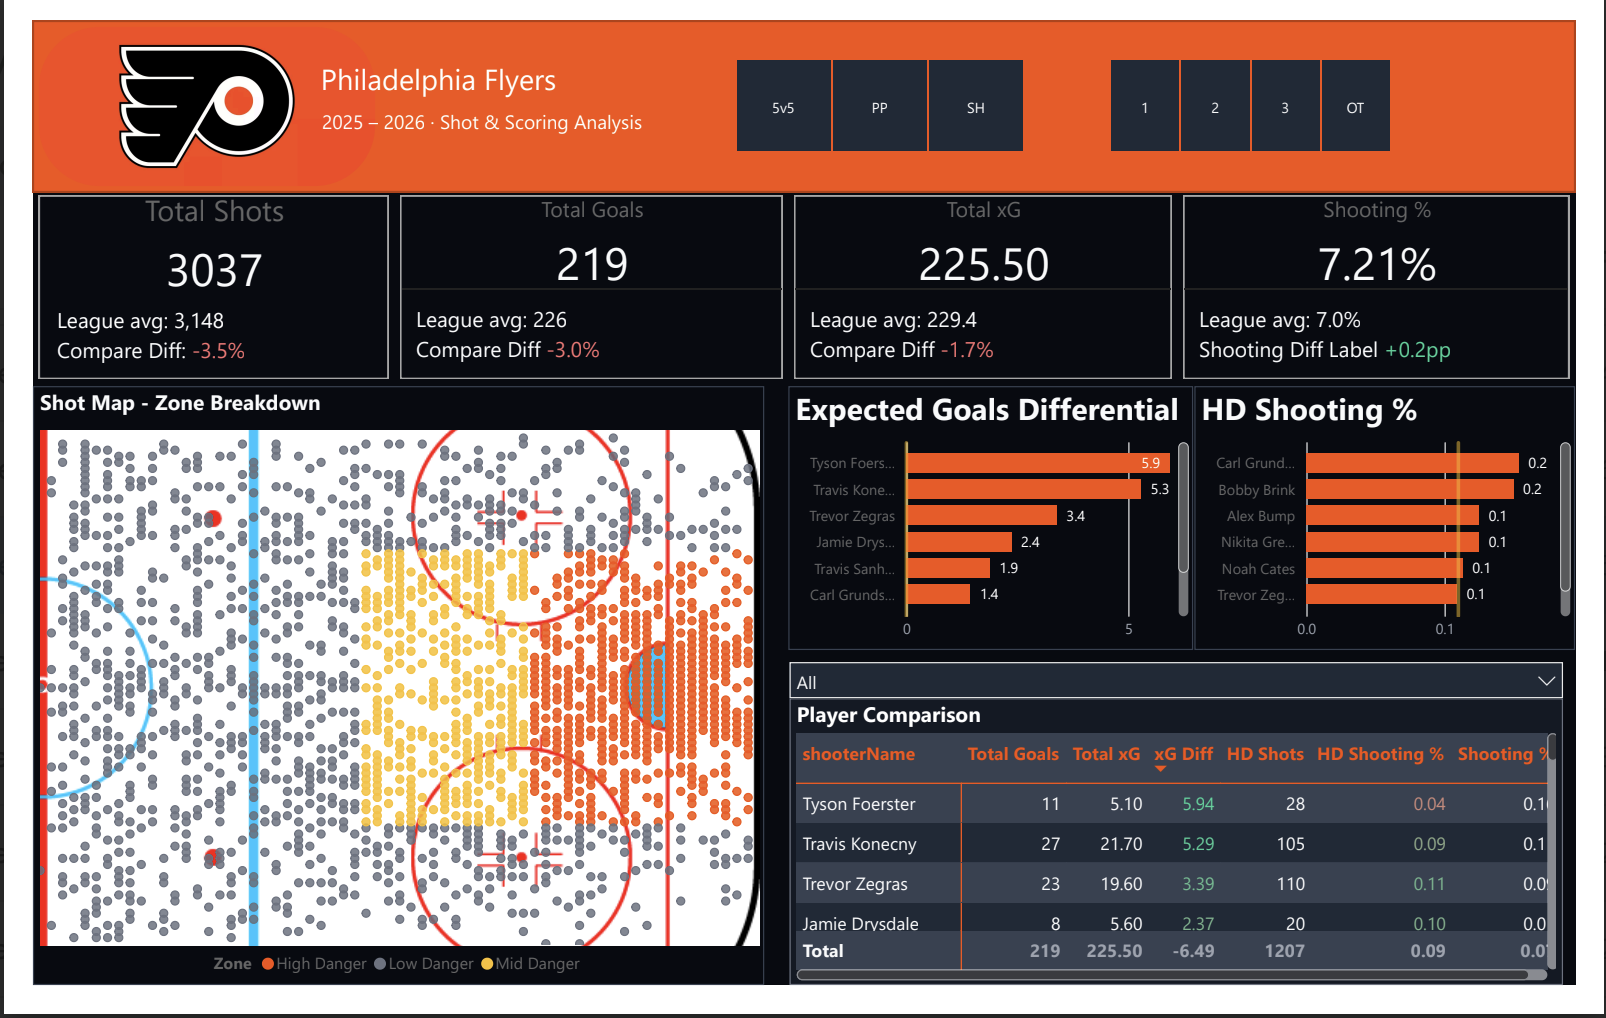

The dashboard page shown, as its layout file describes it:
{"tool":"powerbi","page":{"name":"Shooters","canvas":[1280,800],"ordinal":0},"visuals":[{"type":"shape","box":[0,0,1280,141.5],"z":0},{"type":"image","box":[0,0,289.2,141.5],"z":1000},{"type":"textbox","box":[234.6,67.9,286.6,46.9],"z":2000},{"type":"textbox","box":[234.3,25.7,225.7,45.7],"z":3000},{"type":"cardVisual","title":"TOTAL SHOTS","fields":{"Data":["Shots.Total Shots"]},"box":[0,139.5,299.5,162.9],"z":4000},{"type":"slicer","fields":{"Values":["Shots.Situation"]},"box":[558.2,26.4,288.2,89.1],"z":5000},{"type":"slicer","fields":{"Values":["Shots.Period.1"]},"box":[869.1,26.4,280.9,89.1],"z":6000},{"type":"cardVisual","title":"TOTAL SHOTS","fields":{"Data":["Shots.Total Goals"]},"box":[299.5,139.5,327.8,162.9],"z":7000},{"type":"cardVisual","title":"TOTAL SHOTS","fields":{"Data":["Shots.Total xG"]},"box":[627.3,139.5,322.9,162.9],"z":8000},{"type":"cardVisual","title":"TOTAL SHOTS","fields":{"Data":["Shots.Shooting %"]},"box":[950.2,139.5,329.8,162.9],"z":9000},{"type":"scatterChart","title":"Shot Map - Zone Breakdown","fields":{"X":["Shots.arenaAdjustedXCordABS"],"Y":["Shots.arenaAdjustedYCord"],"Series":["Shots.Zone"]},"box":[0,303.2,607.4,496.8],"z":10000},{"type":"clusteredBarChart","title":"Expected Goals Differential","fields":{"Category":["Shots.shooterName"],"Y":["Shots.xG Diff"]},"box":[627.4,303.2,335.8,218.9],"z":11000},{"type":"clusteredBarChart","title":"HD Shooting %","fields":{"Category":["Shots.shooterName"],"Y":["Shots.HD Shooting %"]},"box":[963.6,303.3,316.4,218.9],"z":12000},{"type":"pivotTable","title":"Player Comparison","fields":{"Rows":["Shots.shooterName"],"Values":["Shots.Total Goals","Shots.Total xG","Shots.xG Diff","Shots.HD Shots","Shots.HD Shooting %","Shots.Shooting %"]},"box":[627.9,561.7,642.4,238.6],"z":13000},{"type":"slicer","fields":{"Values":["Shots.shooterName"]},"box":[618.3,521.9,661.7,47],"z":14000}]}

Visuals, with their boxes in screenshot pixels (x1, y1, x2, y2), scaled from the page's 1280x800 canvas onto the 1606x1018 screenshot:
shape: 0, 0, 1605, 180
image: 0, 0, 363, 180
textbox: 294, 86, 654, 146
textbox: 294, 33, 577, 91
"TOTAL SHOTS" cardVisual: 0, 178, 376, 385
slicer - Shots.Situation: 700, 34, 1062, 147
slicer - Shots.Period.1: 1090, 34, 1443, 147
"TOTAL SHOTS" cardVisual: 376, 178, 787, 385
"TOTAL SHOTS" cardVisual: 787, 178, 1192, 385
"TOTAL SHOTS" cardVisual: 1192, 178, 1605, 385
"Shot Map - Zone Breakdown" scatterChart: 0, 386, 762, 1017
"Expected Goals Differential" clusteredBarChart: 787, 386, 1209, 664
"HD Shooting %" clusteredBarChart: 1209, 386, 1605, 664
"Player Comparison" pivotTable: 788, 715, 1594, 1017
slicer - Shots.shooterName: 776, 664, 1605, 724
